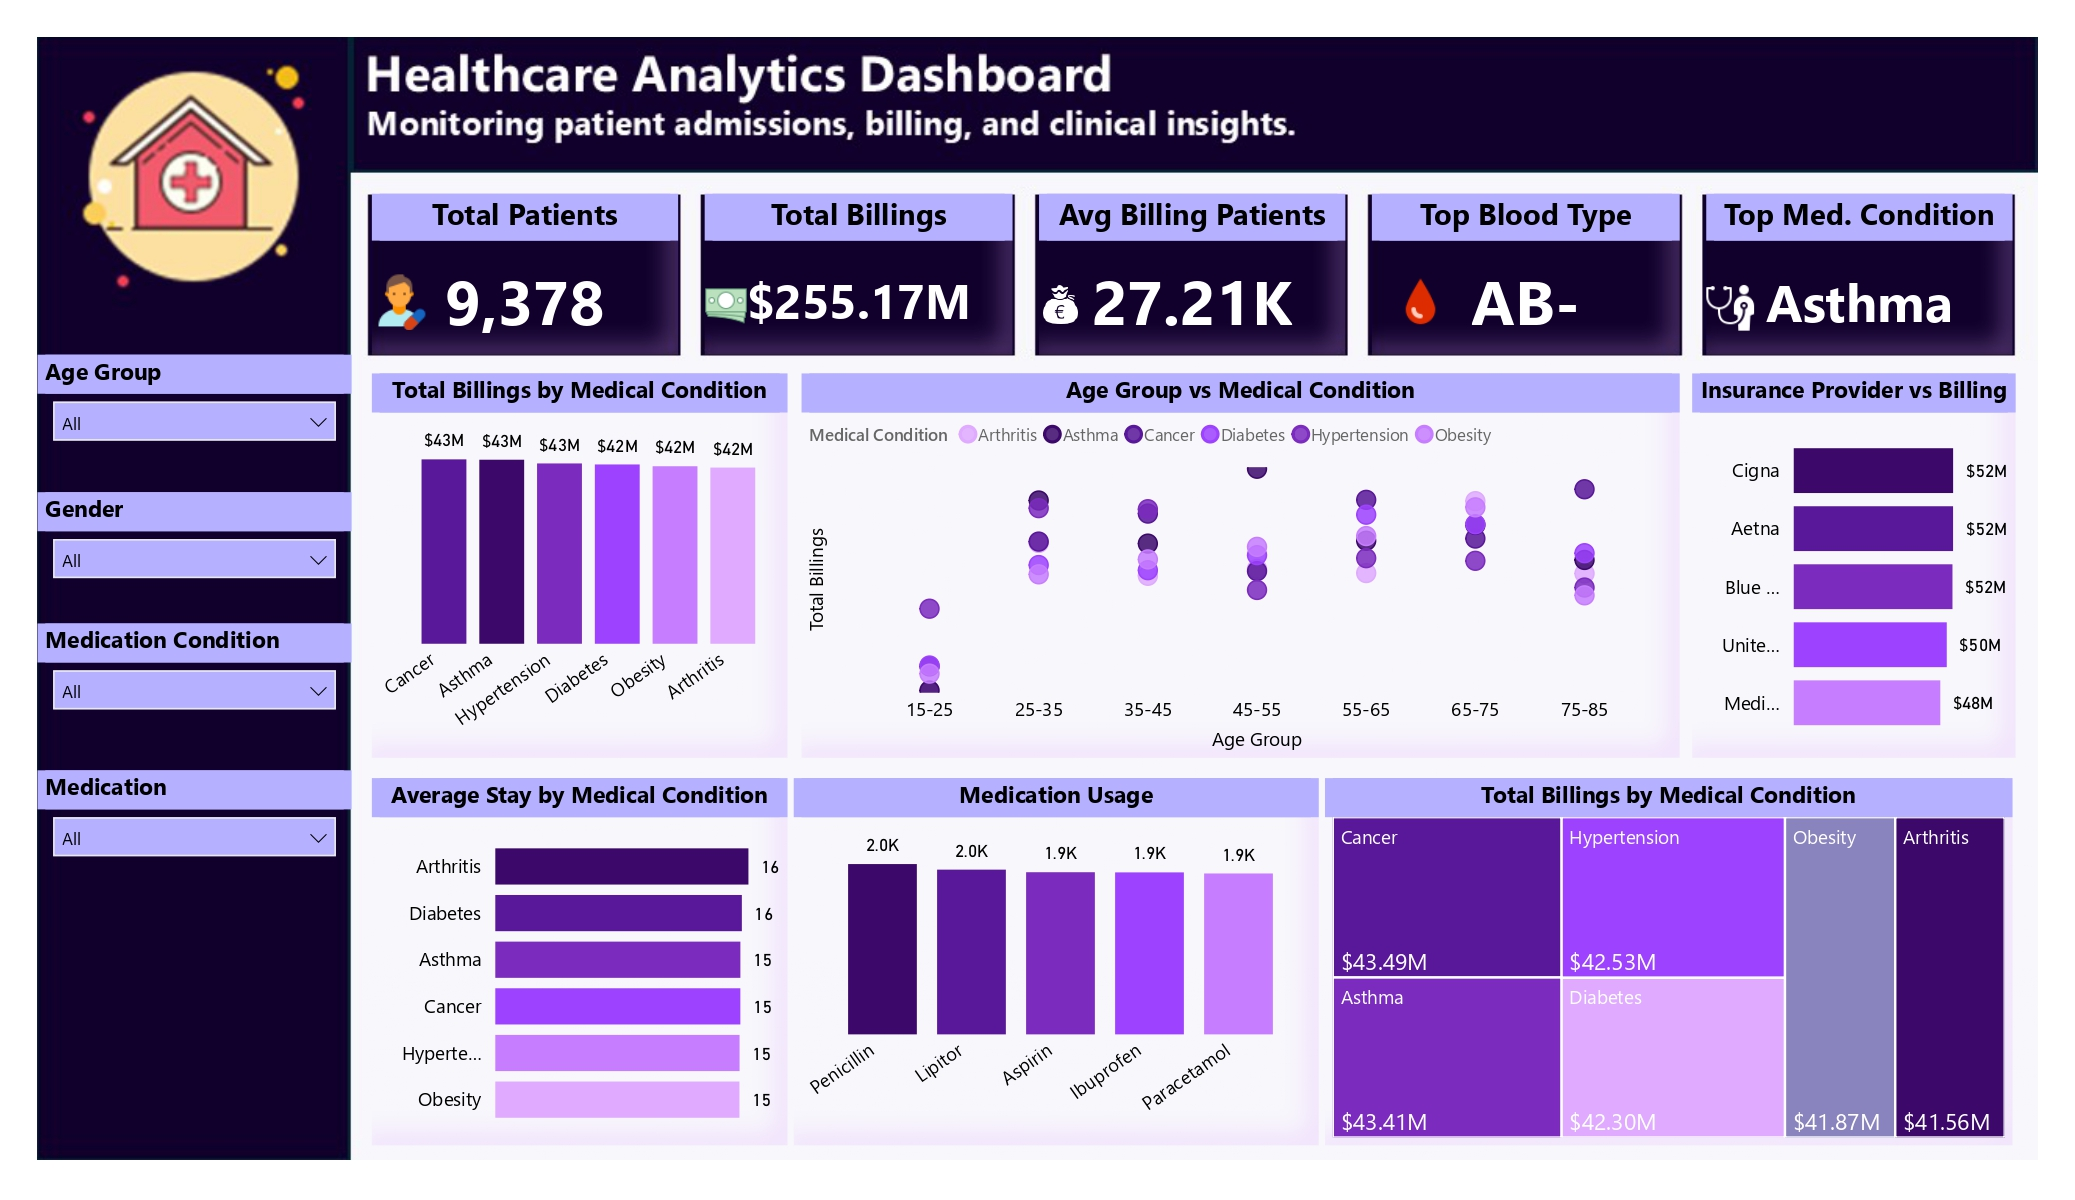

Layout of this report page (visuals, bound fields, positions):
{"tool":"powerbi","page":{"name":"Clinical Insights","canvas":[1280,720],"ordinal":1},"visuals":[{"type":"cardVisual","title":"Total Patients","fields":{"Data":["Measuress.No. of Patients"]},"box":[213.5,100.1,196.6,102.5],"z":0},{"type":"cardVisual","title":"Total Billings","fields":{"Data":["Measuress.Total Billings"]},"box":[427.1,100.1,196.6,102.5],"z":1000},{"type":"cardVisual","title":"Avg Billing Patients","fields":{"Data":["Measuress.Average Billing per Patient"]},"box":[640.6,100.1,196.6,102.5],"z":2000},{"type":"cardVisual","title":"Top Blood Type","fields":{"Data":["Measuress.Most Common Blood Type"]},"box":[854.2,100.1,196.6,102.5],"z":3000},{"type":"cardVisual","title":"Top Med. Condition","fields":{"Data":["Measuress.Most Common Medical Condition"]},"box":[1067.7,100.1,196.6,102.5],"z":4000},{"type":"slicer","title":"Gender","fields":{"Values":["Dataset.Gender"]},"box":[0,290.8,201.5,68.8],"z":5000},{"type":"slicer","title":"Age Group","fields":{"Values":["Dataset.Age Group"]},"box":[0,202.7,201.5,68.8],"z":6000},{"type":"slicer","title":"Medication Condition","fields":{"Values":["Dataset.Medical Condition"]},"box":[0,375.2,201.5,68.8],"z":7000},{"type":"slicer","title":"Medication","fields":{"Values":["Dataset.Medication"]},"box":[0,469.3,201.5,68.8],"z":8000},{"type":"columnChart","fields":{"Y":["Measuress.Total Billings"],"Category":["Dataset.Medical Condition"]},"box":[213.5,214.7,266.6,246.1],"z":9000},{"type":"clusteredBarChart","title":"Average Stay by Medical Condition","fields":{"Category":["Dataset.Medical Condition"],"Y":["Measuress.Average Stay Days"]},"box":[213.5,474.1,266.6,235.3],"z":10000},{"type":"scatterChart","title":"Age Group vs Medical Condition","fields":{"Series":["Dataset.Medical Condition"],"Y":["Measuress.Total Billings"],"X":["Dataset.Age Group"]},"box":[488.6,214.7,562.2,246.1],"z":11000},{"type":"clusteredBarChart","title":"Insurance Provider vs Billing","fields":{"Category":["Dataset.Insurance Provider"],"Y":["Measuress.Total Billings"]},"box":[1059.3,214.7,206.3,246.1],"z":12000},{"type":"columnChart","title":"Medication Usage","fields":{"Category":["Dataset.Medication"],"Y":["Measuress.No. of Patients"]},"box":[484.4,474.1,335.4,235.3],"z":13000},{"type":"treemap","fields":{"Group":["Dataset.Medical Condition"],"Values":["Measuress.Total Billings"]},"box":[824,474.1,440.4,235.3],"z":14000},{"type":"image","box":[205.1,142.4,54.3,49.5],"z":15000},{"type":"image","box":[422.3,146,37.4,47.1],"z":16000},{"type":"image","box":[633.4,152,42.2,37.4],"z":17000},{"type":"image","box":[854.2,146,61.5,44.6],"z":18000},{"type":"image","box":[1061.7,142.4,44.6,60.3],"z":19000}]}

Visuals, with their boxes on the page's 1280x720 design canvas (x1, y1, x2, y2). These are canvas units, not pixel positions in the 2075x1200 screenshot, which may show the page scaled, cropped or inside an application window:
"Total Patients" cardVisual: (214,100,410,203)
"Total Billings" cardVisual: (427,100,624,203)
"Avg Billing Patients" cardVisual: (641,100,837,203)
"Top Blood Type" cardVisual: (854,100,1051,203)
"Top Med. Condition" cardVisual: (1068,100,1264,203)
"Gender" slicer: (0,291,202,360)
"Age Group" slicer: (0,203,202,272)
"Medication Condition" slicer: (0,375,202,444)
"Medication" slicer: (0,469,202,538)
columnChart - Measuress.Total Billings x Dataset.Medical Condition: (214,215,480,461)
"Average Stay by Medical Condition" clusteredBarChart: (214,474,480,709)
"Age Group vs Medical Condition" scatterChart: (489,215,1051,461)
"Insurance Provider vs Billing" clusteredBarChart: (1059,215,1266,461)
"Medication Usage" columnChart: (484,474,820,709)
treemap - Dataset.Medical Condition x Measuress.Total Billings: (824,474,1264,709)
image: (205,142,259,192)
image: (422,146,460,193)
image: (633,152,676,189)
image: (854,146,916,191)
image: (1062,142,1106,203)
